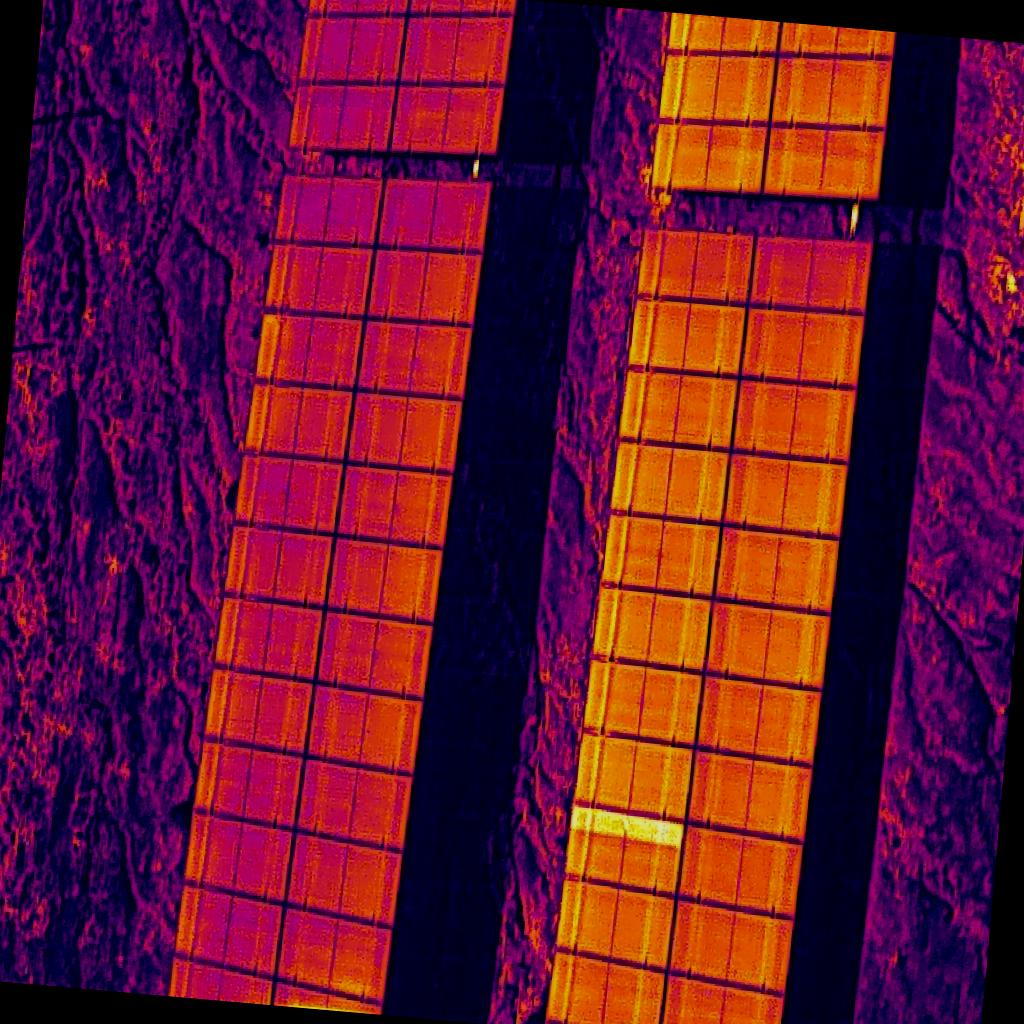panel: (689, 751, 812, 842), (704, 603, 828, 689), (564, 805, 680, 893), (639, 228, 757, 305), (377, 176, 489, 253), (657, 55, 773, 121), (401, 14, 510, 84)
